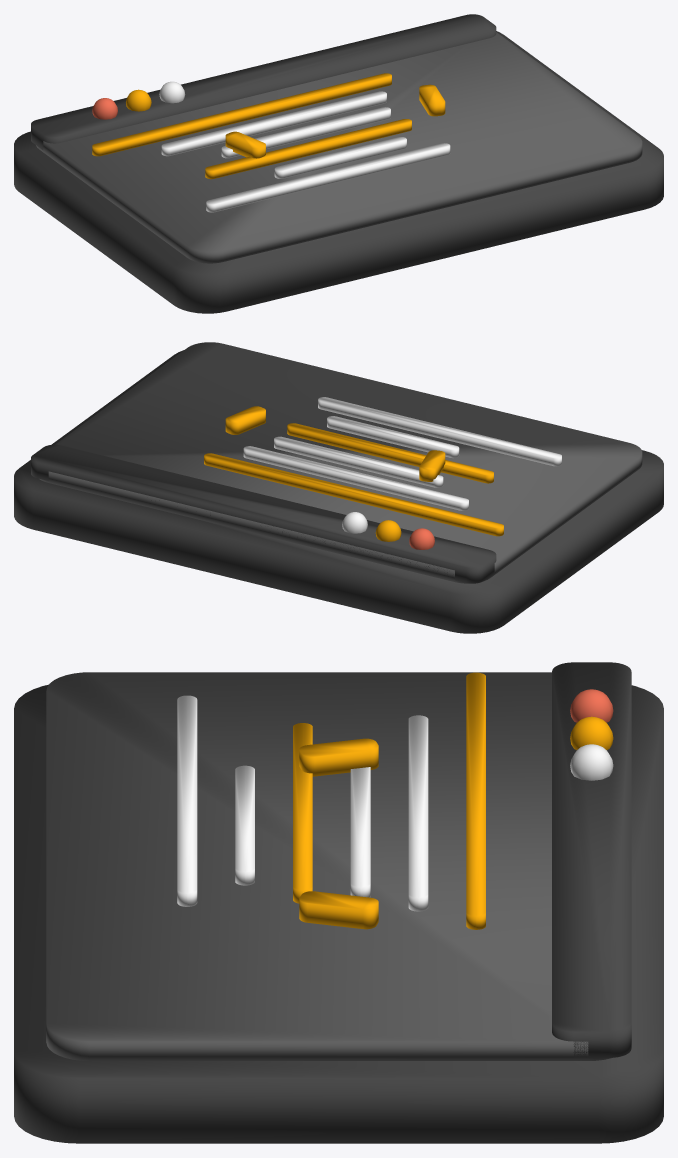
Rendered from code_window.glb.
3 views of the same model, one above another, from view 1: azimuth 30°, elevation 25°; view 2: azimuth 150°, elevation 25°; view 3: azimuth 270°, elevation 25° (orthographic). The views are drawn at different scales.
Visible parts, largest first — view 1: CodeScreen, CodeBG, CodeTitleBar, CodeLine_0, CodeLine_5, CodeLine_1, CodeLine_3, CodeLine_2, CodeLine_4, CodeBracketL, CodeBracketR, CodeDot_0 (+2 smaller); view 2: CodeScreen, CodeBG, CodeTitleBar, CodeLine_0, CodeLine_5, CodeLine_1, CodeLine_3, CodeLine_2, CodeLine_4, CodeBracketR, CodeBracketL, CodeDot_2 (+2 smaller); view 3: CodeScreen, CodeBG, CodeTitleBar, CodeLine_0, CodeLine_5, CodeLine_1, CodeLine_3, CodeLine_2, CodeBracketR, CodeBracketL, CodeLine_4, CodeDot_2 (+2 smaller).
Boxes of the visible parts, x1=… form: CodeScreen: x1=36, y1=32, x2=642, y2=263; CodeBG: x1=14, y1=31, x2=663, y2=313; CodeTitleBar: x1=31, y1=14, x2=496, y2=149; CodeLine_0: x1=92, y1=73, x2=391, y2=156; CodeLine_5: x1=206, y1=143, x2=450, y2=212; CodeLine_1: x1=161, y1=91, x2=386, y2=156; CodeLine_3: x1=205, y1=119, x2=411, y2=179; CodeLine_2: x1=221, y1=107, x2=390, y2=158; CodeLine_4: x1=274, y1=137, x2=406, y2=178; CodeBracketL: x1=225, y1=131, x2=265, y2=158; CodeBracketR: x1=419, y1=84, x2=445, y2=116; CodeDot_0: x1=92, y1=98, x2=117, y2=119; CodeScreen: x1=39, y1=342, x2=642, y2=583; CodeBG: x1=14, y1=350, x2=663, y2=633; CodeTitleBar: x1=31, y1=444, x2=496, y2=583; CodeLine_0: x1=204, y1=453, x2=503, y2=536; CodeLine_5: x1=318, y1=397, x2=561, y2=466; CodeLine_1: x1=243, y1=446, x2=468, y2=510; CodeLine_3: x1=287, y1=423, x2=493, y2=483; CodeLine_2: x1=274, y1=436, x2=443, y2=487; CodeLine_4: x1=327, y1=416, x2=459, y2=458; CodeBracketR: x1=225, y1=406, x2=265, y2=434; CodeBracketL: x1=419, y1=450, x2=445, y2=481; CodeDot_2: x1=342, y1=512, x2=367, y2=533; CodeScreen: x1=46, y1=672, x2=612, y2=1060; CodeBG: x1=14, y1=684, x2=663, y2=1143; CodeTitleBar: x1=552, y1=662, x2=631, y2=1057; CodeLine_0: x1=466, y1=672, x2=485, y2=929; CodeLine_5: x1=177, y1=695, x2=197, y2=906; CodeLine_1: x1=408, y1=715, x2=428, y2=911; CodeLine_3: x1=293, y1=723, x2=312, y2=903; CodeLine_2: x1=350, y1=767, x2=370, y2=897; CodeBracketR: x1=299, y1=891, x2=378, y2=929; CodeBracketL: x1=299, y1=738, x2=378, y2=776; CodeLine_4: x1=235, y1=765, x2=254, y2=885; CodeDot_2: x1=570, y1=744, x2=613, y2=780.
Bounding box in the file's own units: 2.6 × 0.38 × 1.8.
